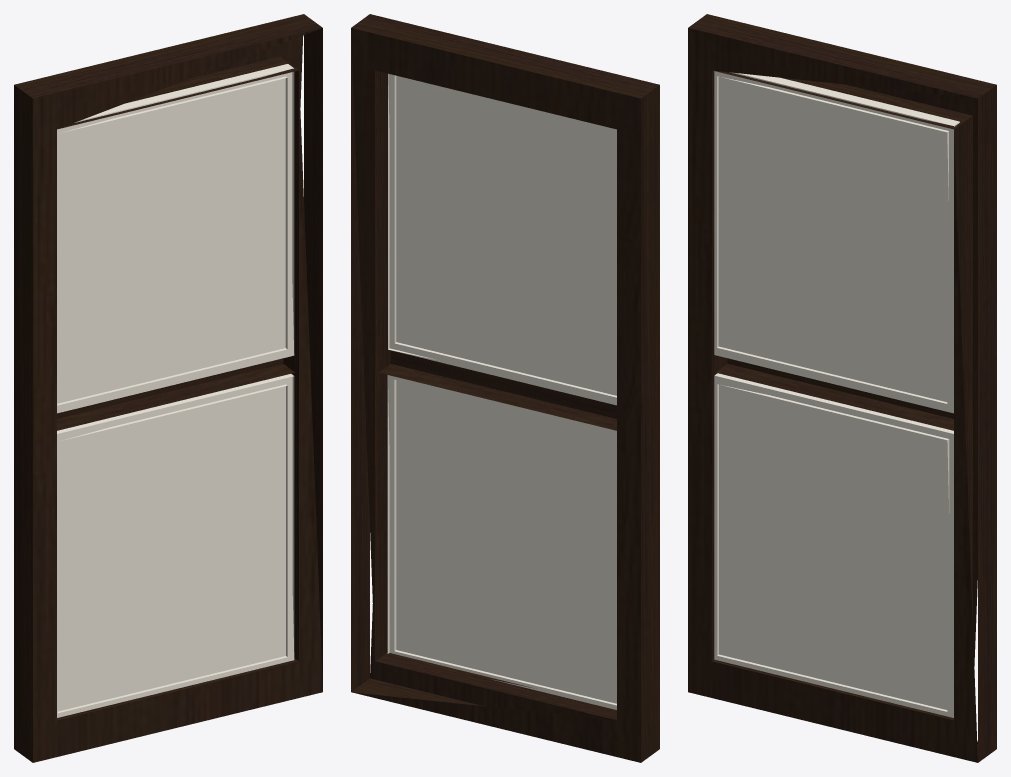
File: puertaVidrio.obj
3 views of the same model, side by side, from view 1: azimuth 30°, elevation 25°; view 2: azimuth 150°, elevation 25°; view 3: azimuth 330°, elevation 25° (orthographic).
Visible parts, largest first — view 1: top_window_frame_09 frames Electrical_Shops, Electrical_Shops windows1 window_018, Electrical_Shops window_017 windows1; view 2: top_window_frame_09 frames Electrical_Shops, Electrical_Shops window_017 windows1, Electrical_Shops windows1 window_018; view 3: top_window_frame_09 frames Electrical_Shops, Electrical_Shops windows1 window_018, Electrical_Shops window_017 windows1.
Part boxes in pixels (x1,y1,x2,y2): top_window_frame_09 frames Electrical_Shops: (14,14,322,762); Electrical_Shops windows1 window_018: (57,64,294,413); Electrical_Shops window_017 windows1: (57,374,294,717); top_window_frame_09 frames Electrical_Shops: (351,14,659,762); Electrical_Shops window_017 windows1: (387,375,616,709); Electrical_Shops windows1 window_018: (388,73,616,405); top_window_frame_09 frames Electrical_Shops: (688,14,996,762); Electrical_Shops windows1 window_018: (714,71,959,413); Electrical_Shops window_017 windows1: (714,373,953,717).
Size of the model in its own units: 9.34 by 20.43 by 1.06.
2 materials, 2 textured.
